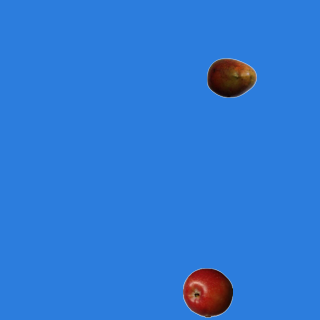Apple Braeburn: (182, 267, 232, 317)
Mango Red: (206, 52, 256, 102)
